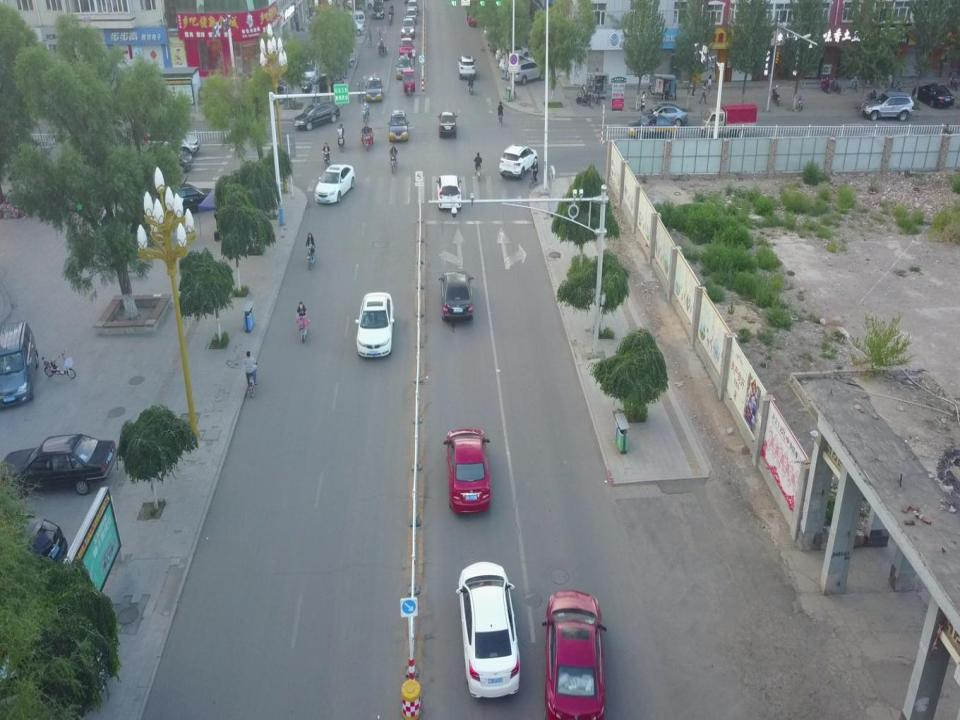car: (455, 559, 520, 698), (543, 591, 608, 720), (0, 433, 118, 495), (442, 428, 492, 513), (0, 514, 69, 566), (354, 290, 394, 358), (155, 184, 216, 216), (439, 269, 474, 320), (860, 90, 913, 122), (315, 163, 355, 203), (140, 130, 200, 154), (294, 102, 340, 132), (499, 144, 537, 179), (139, 147, 194, 171), (626, 112, 678, 137), (508, 56, 547, 86), (639, 104, 687, 126), (913, 83, 954, 108), (435, 174, 462, 209), (302, 74, 344, 94), (387, 110, 409, 141), (494, 43, 528, 60), (436, 112, 458, 137), (498, 54, 530, 70), (456, 56, 477, 79), (366, 75, 383, 103), (395, 56, 410, 79), (340, 21, 366, 34), (399, 36, 412, 56), (401, 19, 415, 36), (372, 2, 386, 19), (404, 8, 416, 24), (406, 0, 419, 13)
van: (0, 320, 39, 408), (340, 10, 366, 26)
